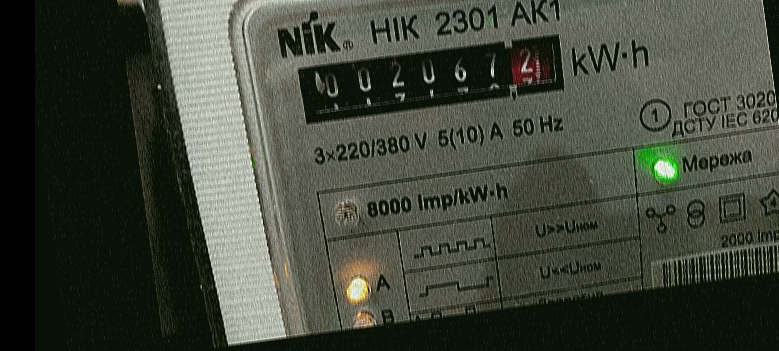0: (322, 69, 343, 100), (355, 62, 376, 93), (418, 54, 439, 84)
2: (516, 44, 538, 75), (388, 58, 408, 89)
6: (451, 52, 472, 83)
7: (483, 48, 503, 80)
screen: (283, 18, 584, 138)
